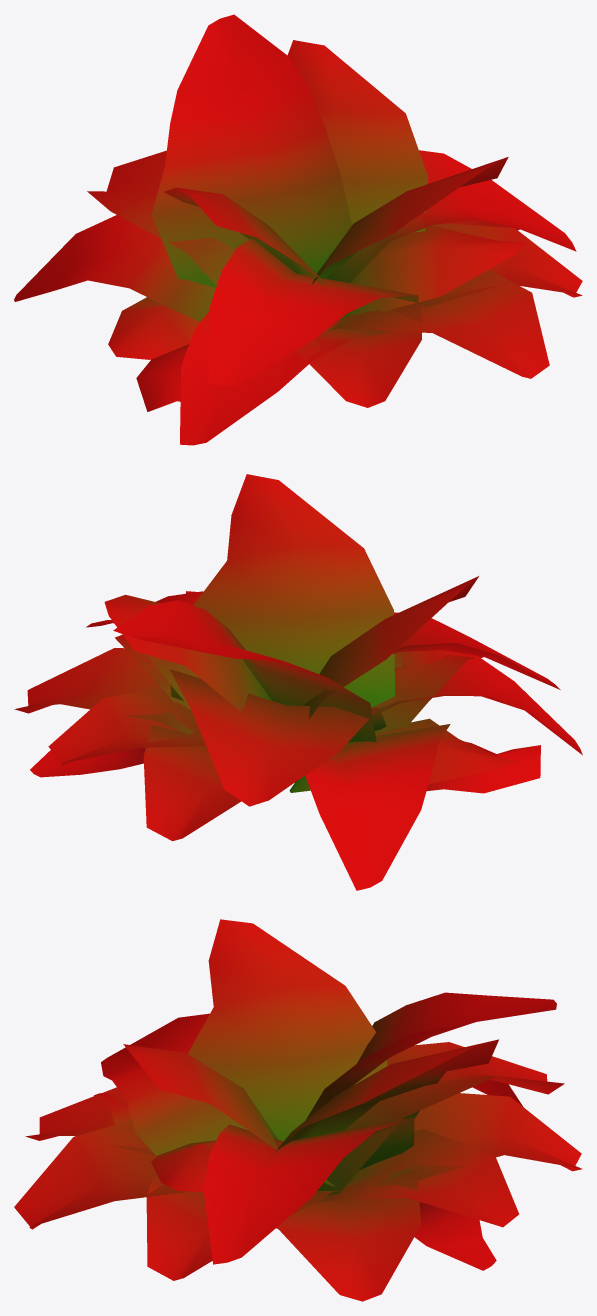
The model's file is Fern_Var1_LOD1.fbx.
3 views of the same model, one above another, from view 1: azimuth 30°, elevation 25°; view 2: azimuth 150°, elevation 25°; view 3: azimuth 270°, elevation 25° (orthographic). The views are drawn at different scales.
Visible parts, largest first — view 1: Var1_LOD1; view 2: Var1_LOD1; view 3: Var1_LOD1.
Part boxes in pixels (left/top/right/bottom): Var1_LOD1: left=14, top=14, right=582, bottom=445; Var1_LOD1: left=14, top=474, right=582, bottom=890; Var1_LOD1: left=14, top=919, right=582, bottom=1301.
Bounding box in the file's own units: 45.06 × 22.25 × 47.3.
